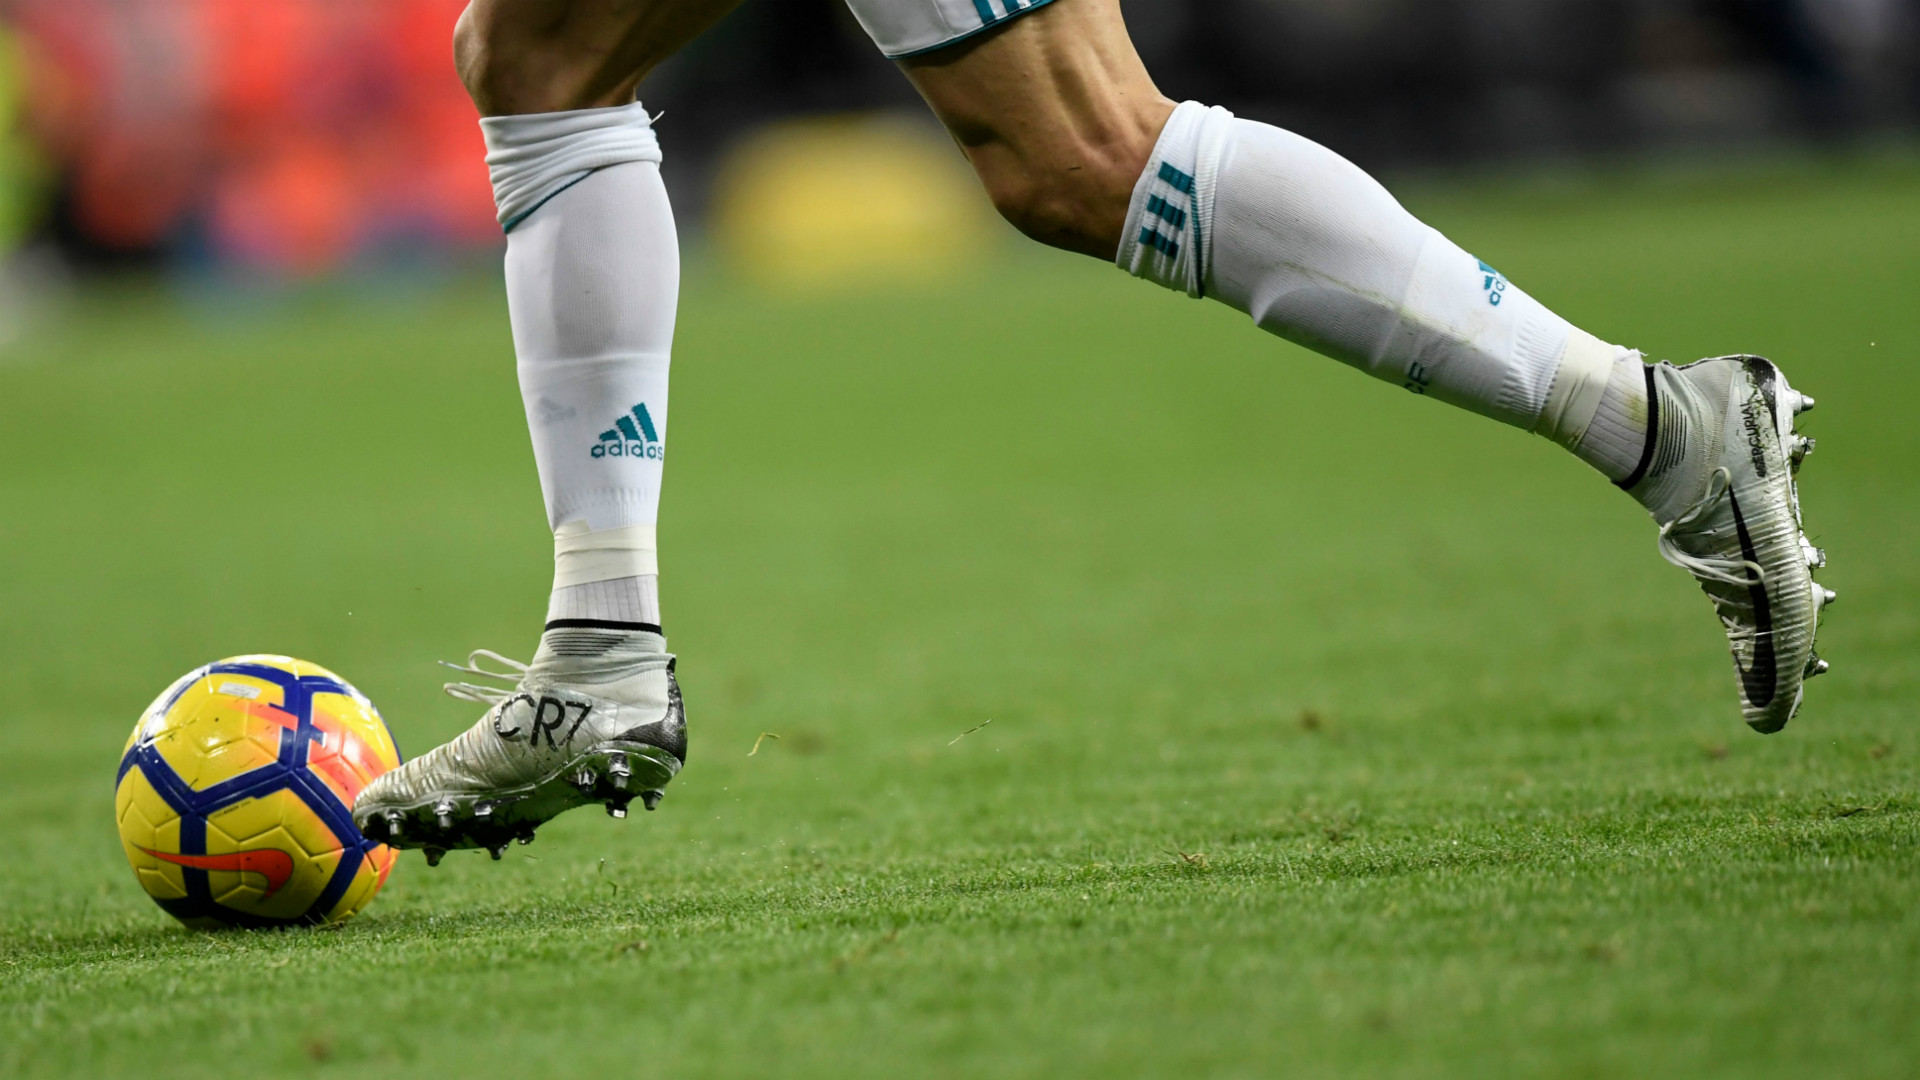football boots: (353, 651, 683, 866), (1658, 357, 1836, 735)
